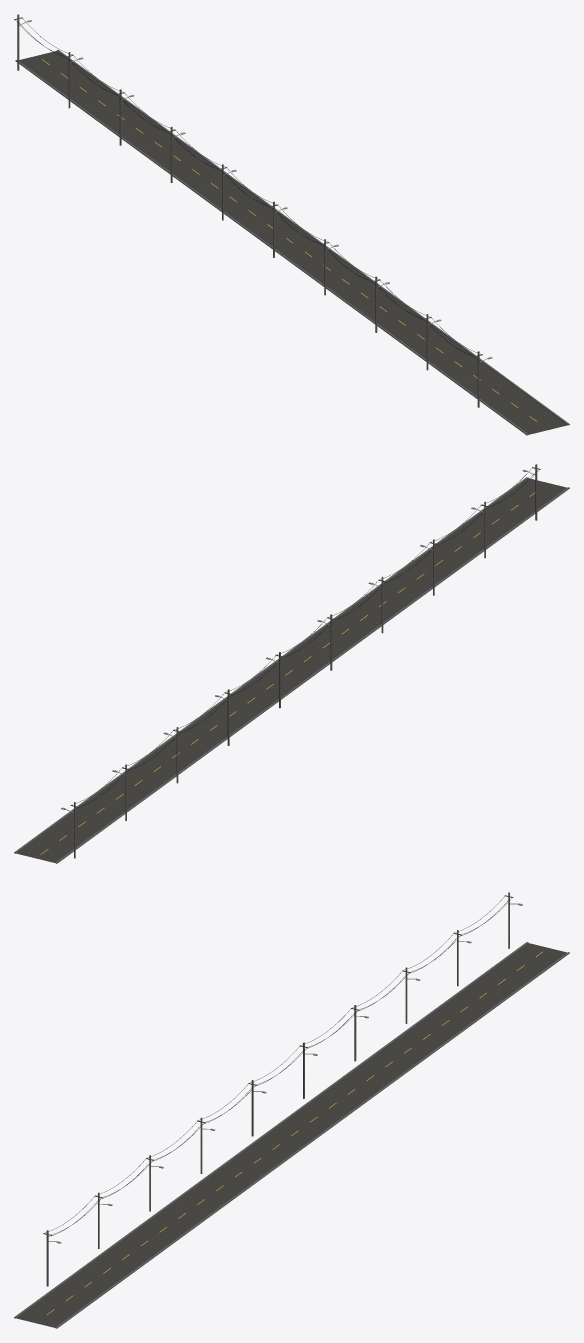
Rendered from rua_bloquete.glb.
The picture shows the model from 3 angles, top to bottom: view 1: azimuth 30°, elevation 25°; view 2: azimuth 150°, elevation 25°; view 3: azimuth 330°, elevation 25°; orthographic projection.
Visible parts, largest first — view 1: asfalto_velho, meio_fio, poste_concreto, fio; view 2: asfalto_velho, meio_fio, poste_concreto, fio; view 3: asfalto_velho, meio_fio, poste_concreto, fio.
Boxes of the visible parts, x1,y1,x2,y2 form: asfalto_velho: [19, 51, 567, 434]; meio_fio: [15, 50, 569, 435]; poste_concreto: [14, 14, 482, 407]; fio: [15, 18, 481, 358]; asfalto_velho: [16, 478, 566, 862]; meio_fio: [14, 477, 569, 863]; poste_concreto: [70, 464, 540, 858]; fio: [72, 467, 539, 808]; asfalto_velho: [16, 943, 566, 1327]; meio_fio: [14, 942, 569, 1328]; poste_concreto: [43, 892, 513, 1286]; fio: [44, 895, 512, 1236].
Size of the model in its own units: 9.25 by 9 by 150.
6 materials, 3 textured.
